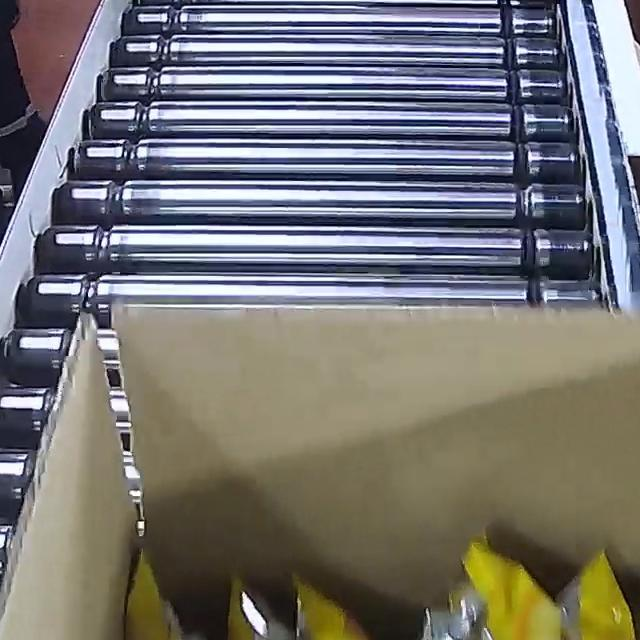salted: (105, 527, 640, 640)
